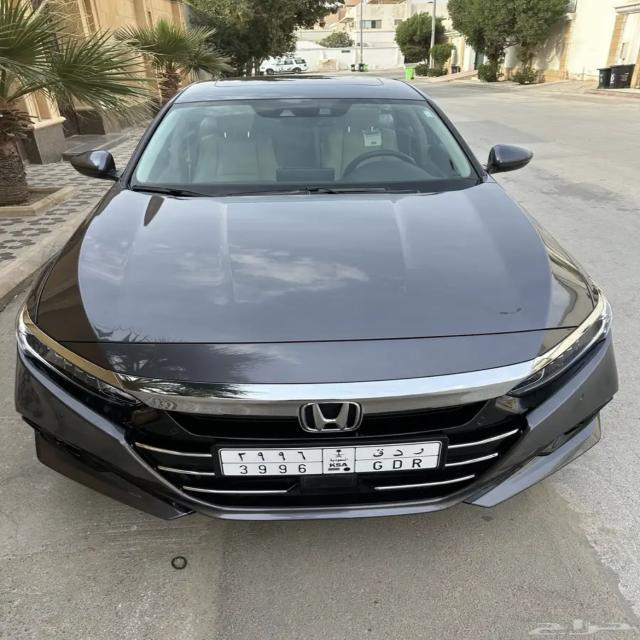license_plate: (218, 438, 446, 482)
